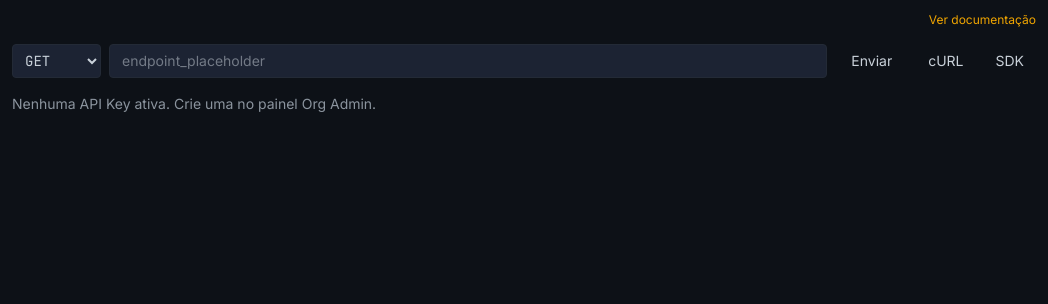
Test: PlaygroundPanel — editor de body JSON › exibe textarea de body quando método é POST
Select "POST" in the dropdown with test id "method-select": (56, 61) x1=12 y1=44 x2=101 y2=78
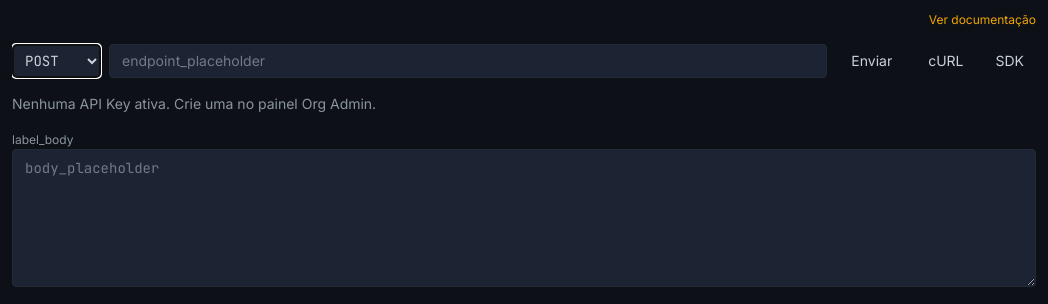
Result: the text box with test id "body-editor" is shown at x1=12 y1=149 x2=1036 y2=287
